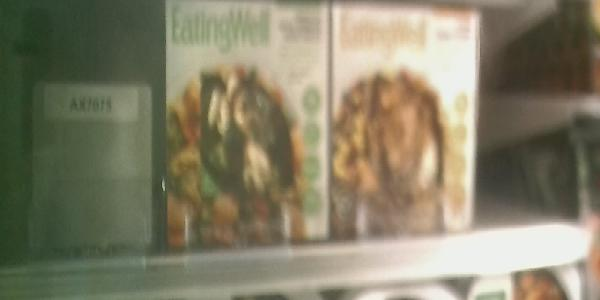pizza1: (166, 1, 335, 243), (330, 4, 477, 234)
